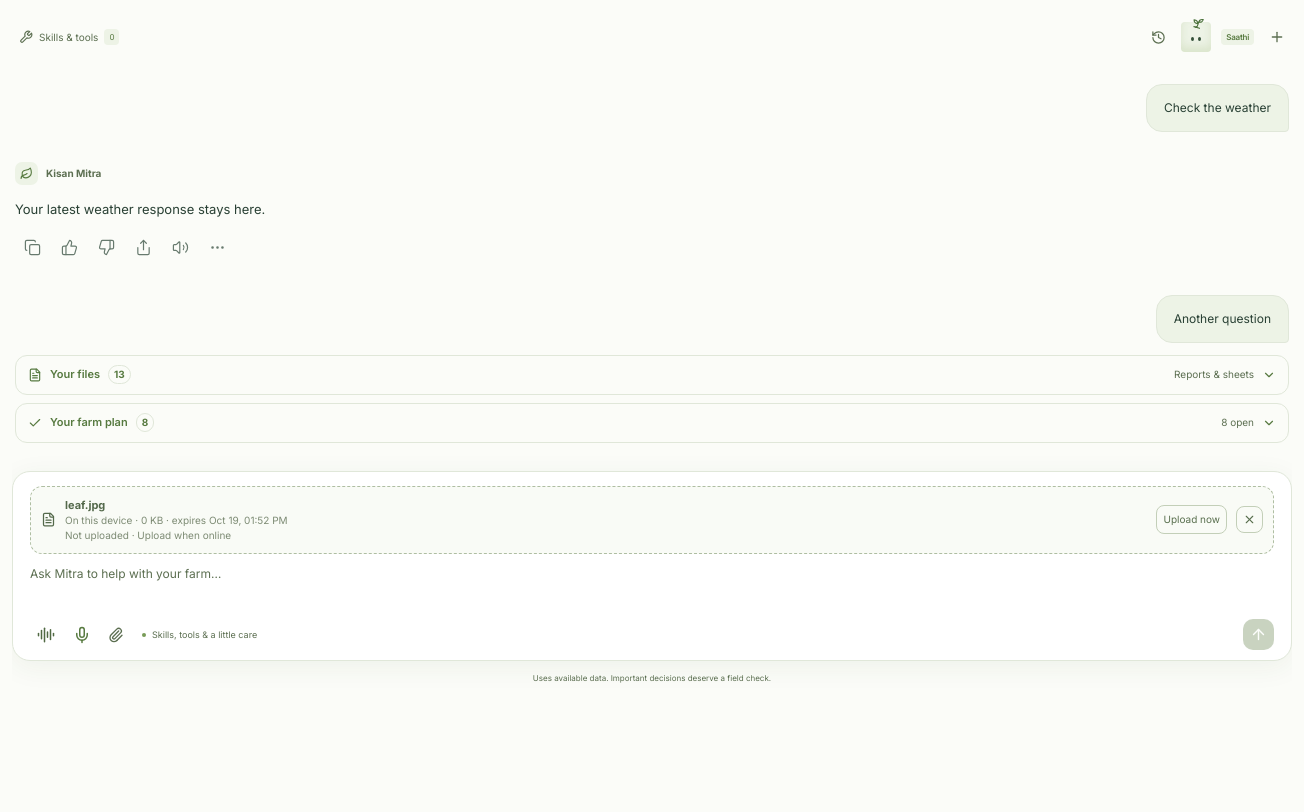
shows failed transfer honestly and retains the local copy
expect the text "Not uploaded · Upload when online" is shown: met, box [65, 529, 231, 541]
Click the button "Upload now": (1192, 520) [1156, 505, 1227, 534]
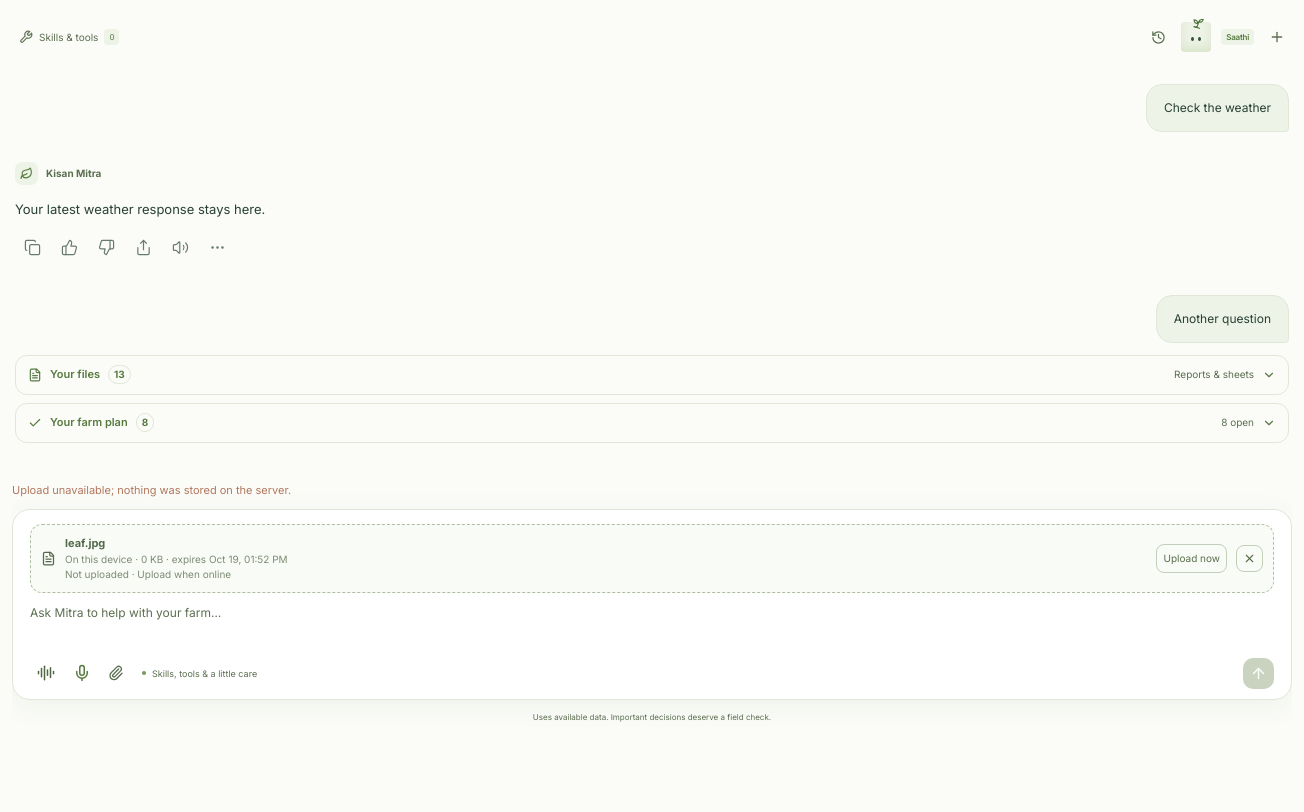
expect the text "Not uploaded · Upload when online" is shown: met, box [65, 568, 231, 580]
expect the message shows "nothing was stored on the server": met, box [12, 483, 291, 497]
